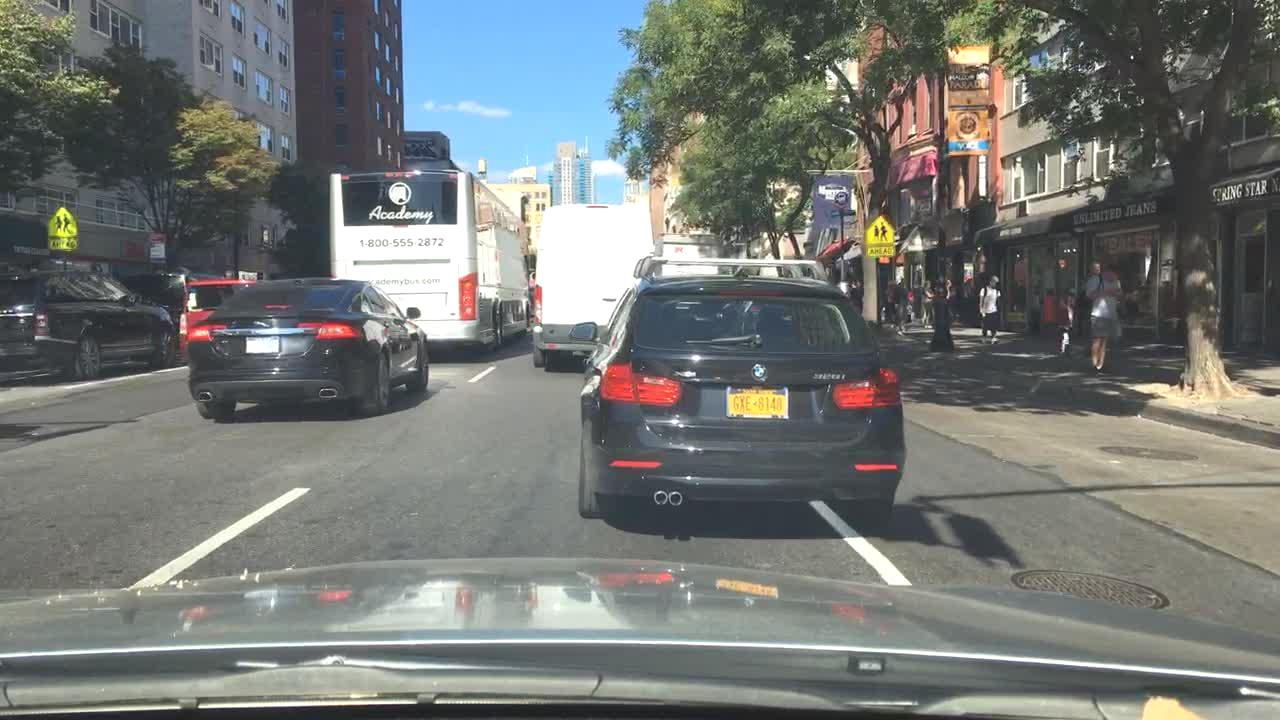bmw: (746, 355, 776, 388)
